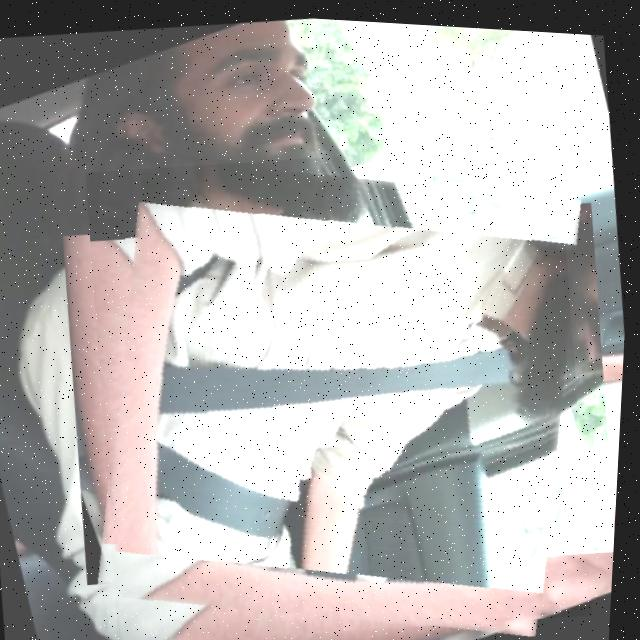seatbelt: (67, 112, 616, 640)
